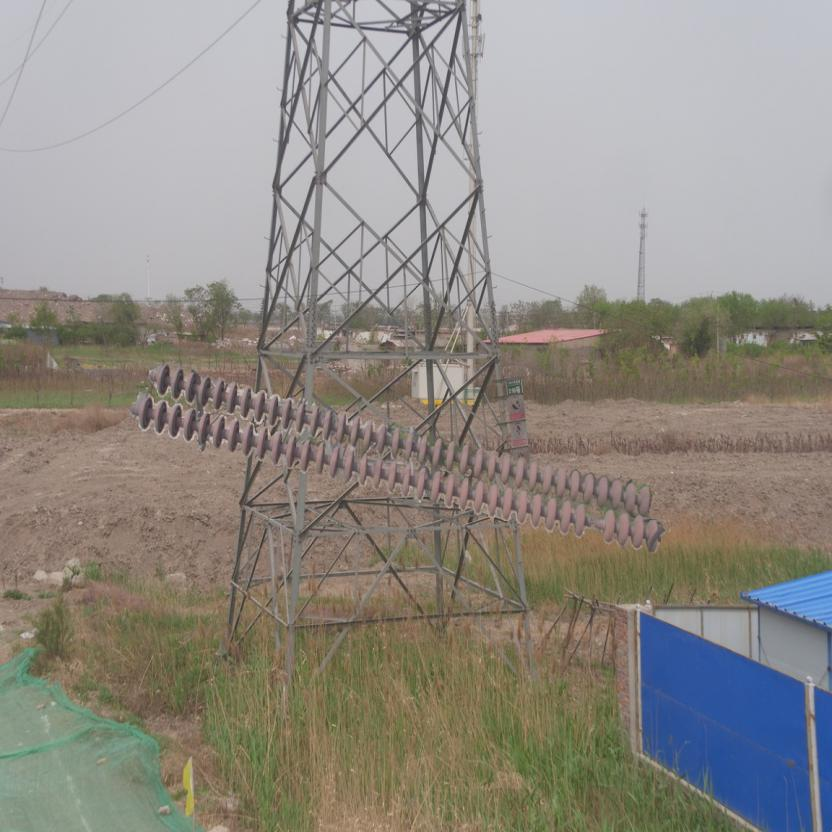defect: (568, 502, 620, 540)
